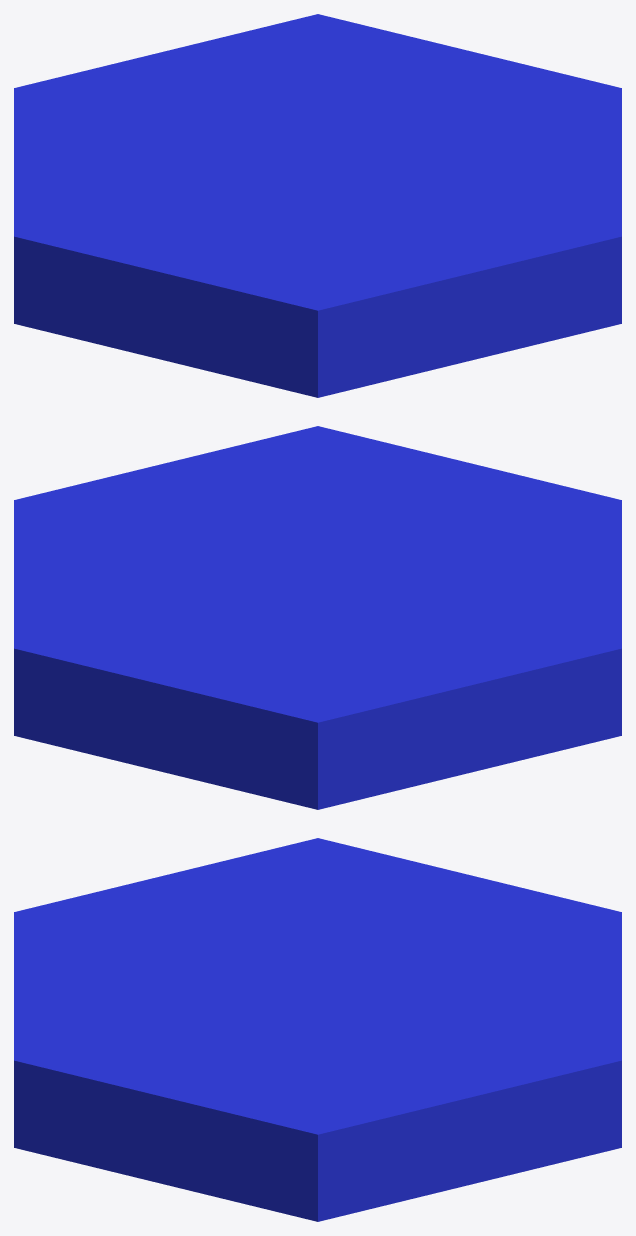
The model's file is tile-biome_ground_lake_full.glb.
The picture shows the model from 3 angles, top to bottom: view 1: azimuth 30°, elevation 25°; view 2: azimuth 150°, elevation 25°; view 3: azimuth 270°, elevation 25°; orthographic projection.
Visible parts, largest first — view 1: tile-biome_ground_lake_full; view 2: tile-biome_ground_lake_full; view 3: tile-biome_ground_lake_full.
Boxes of the visible parts, bbox=[...] form: tile-biome_ground_lake_full: bbox=[14, 14, 621, 397]; tile-biome_ground_lake_full: bbox=[14, 426, 621, 809]; tile-biome_ground_lake_full: bbox=[14, 838, 621, 1221].
Size of the model in its own units: 3.46 by 0.475 by 3.
